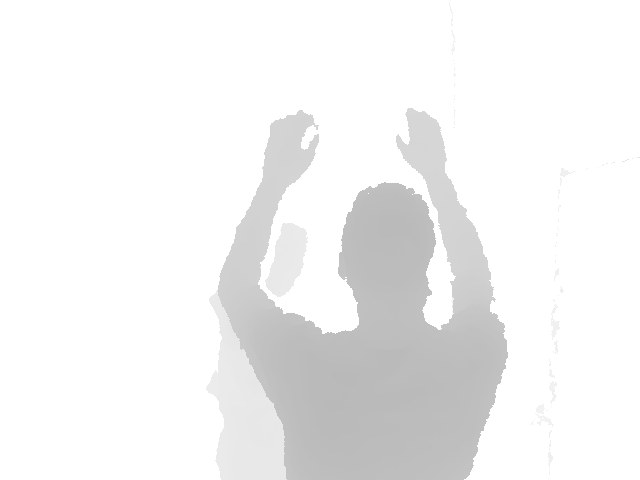hand: (262, 110, 319, 188), (394, 108, 447, 175)
head: (338, 183, 436, 331), (263, 222, 308, 301)
person: (217, 108, 511, 480), (205, 222, 309, 480)
